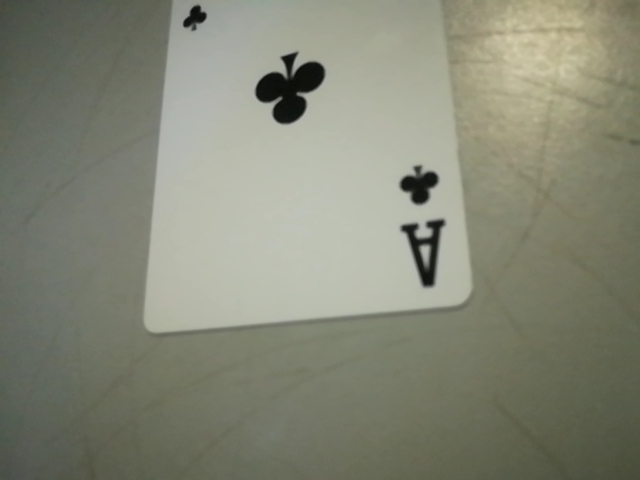mh a: (379, 151, 457, 301)
